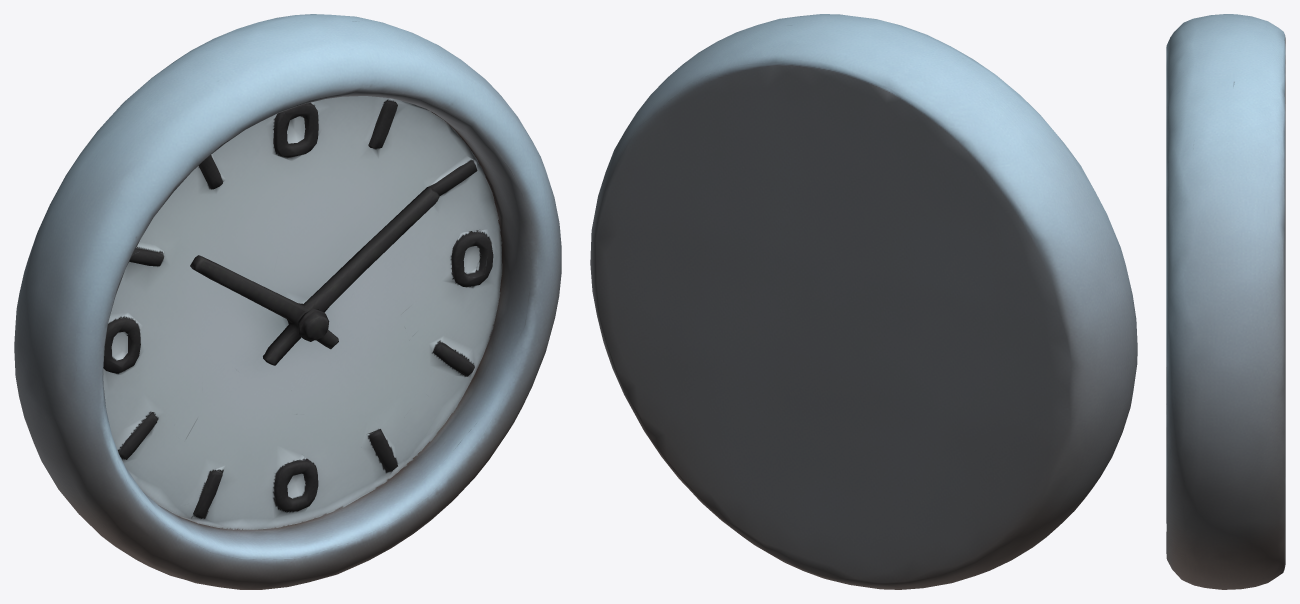
The model's file is lecturehall_WallClockSecondary.glb.
3 views of the same model, side by side, from view 1: azimuth 30°, elevation 25°; view 2: azimuth 150°, elevation 25°; view 3: azimuth 270°, elevation 25° (orthographic). The views are drawn at different scales.
Visible parts, largest first — view 1: world; view 2: world; view 3: world.
Boxes of the visible parts, <box> form: world: <box>14,14,561,589</box>; world: <box>590,14,1137,589</box>; world: <box>1166,14,1285,589</box>.
Size of the model in its own units: 0.9954 by 1 by 0.2064.
1 material, 1 textured.
